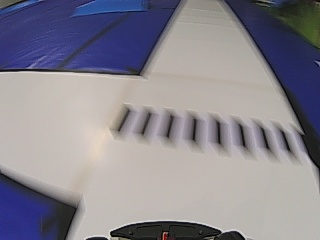CrossWalk: (111, 109, 290, 155)
